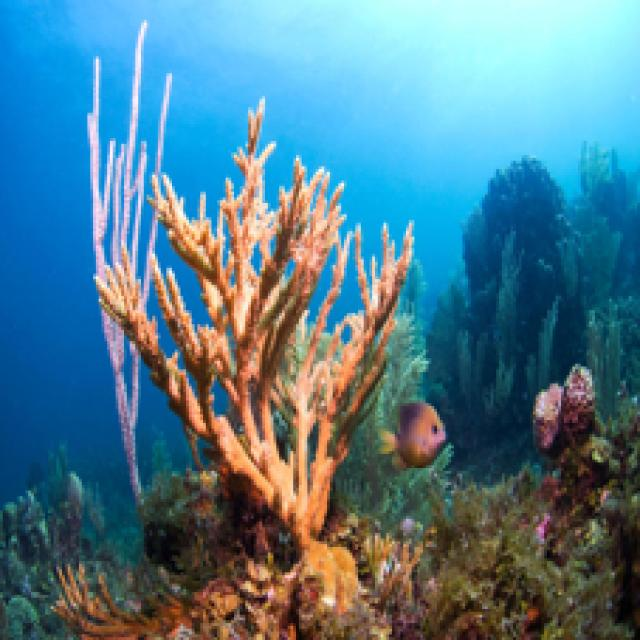Healthy: (97, 102, 413, 627), (55, 562, 300, 638), (88, 24, 145, 269), (102, 311, 136, 494), (534, 365, 593, 455)
